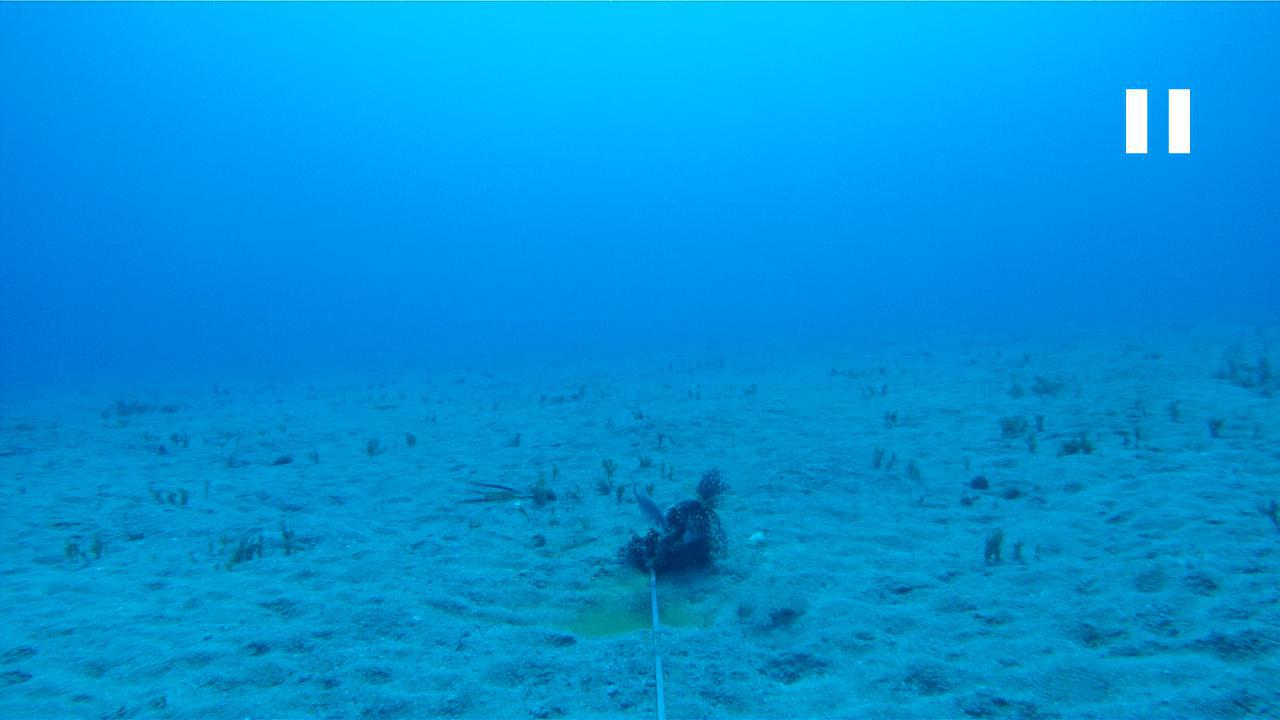bothus: (734, 572, 808, 628)
pagellus: (626, 469, 669, 535)
